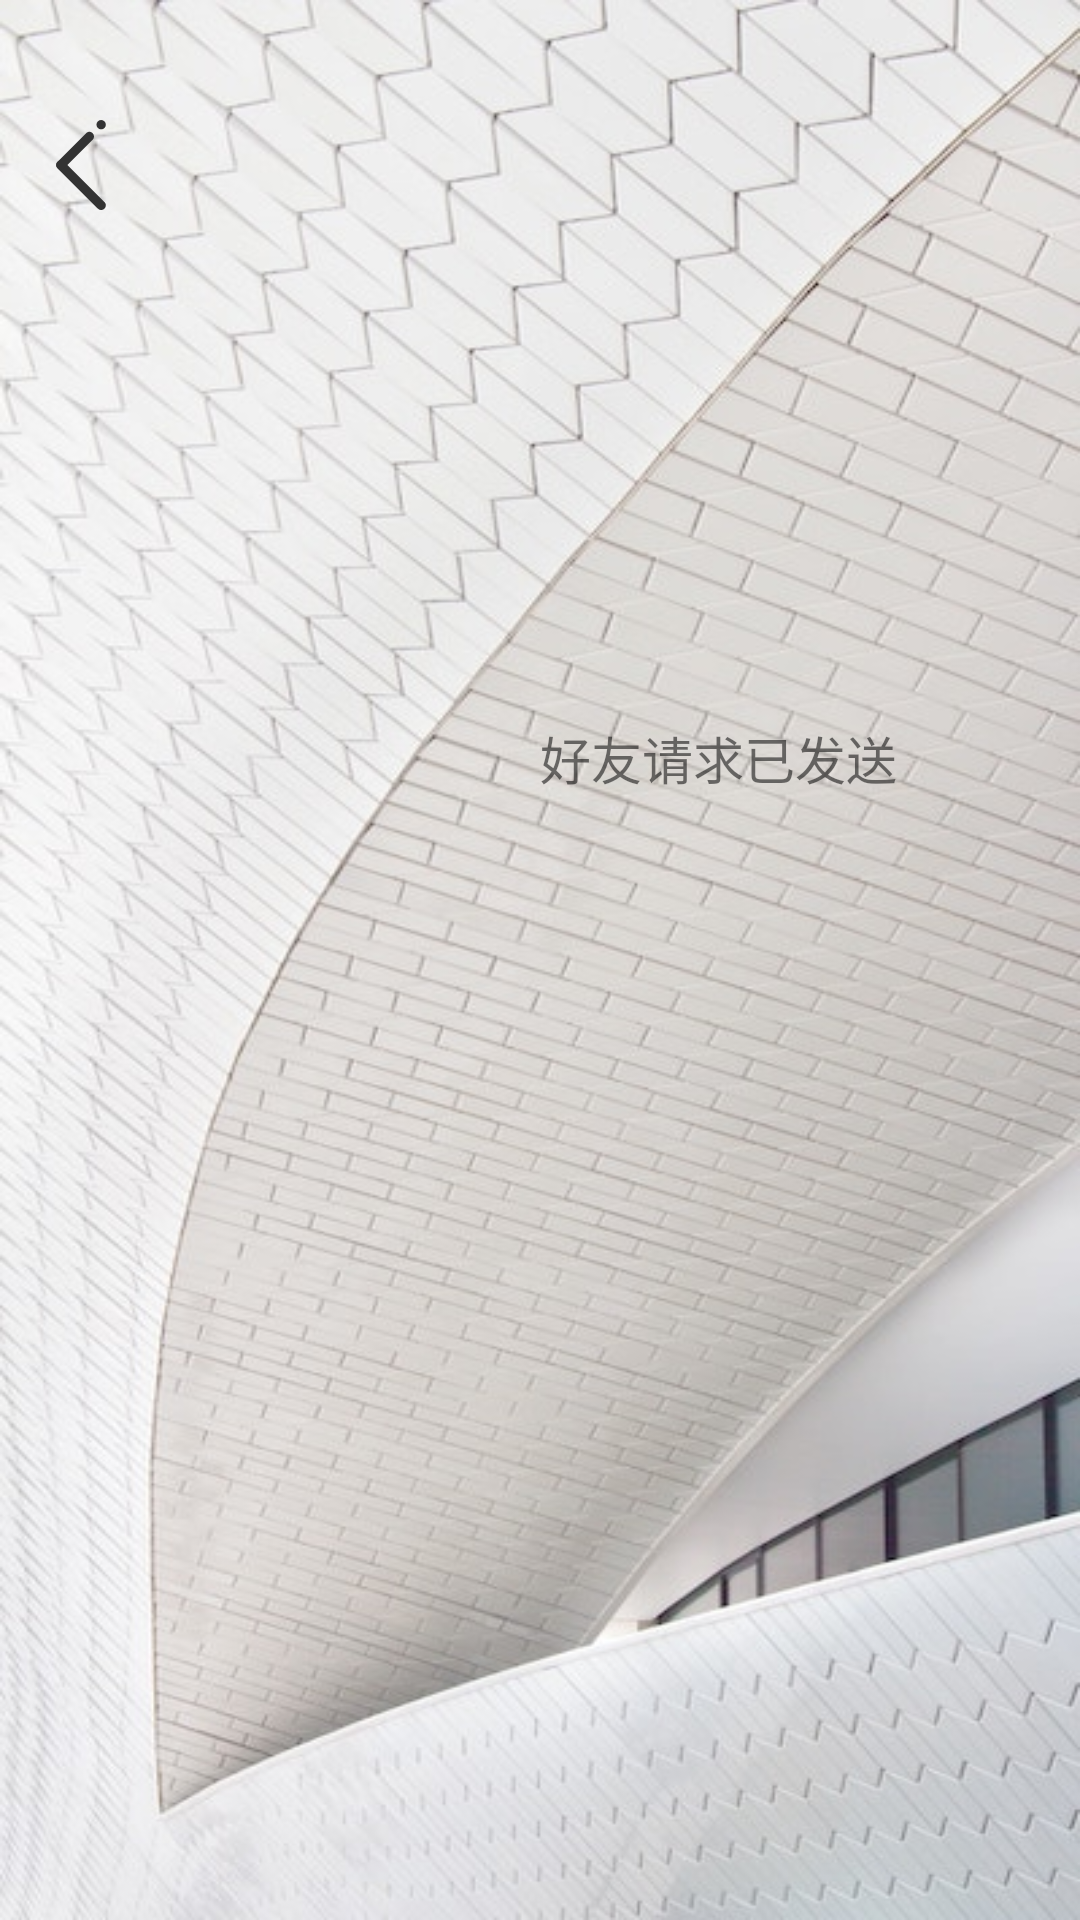

Named icons in this screenshot (1080*1920) and their centers, [x,y]:
backall: [81,165]
